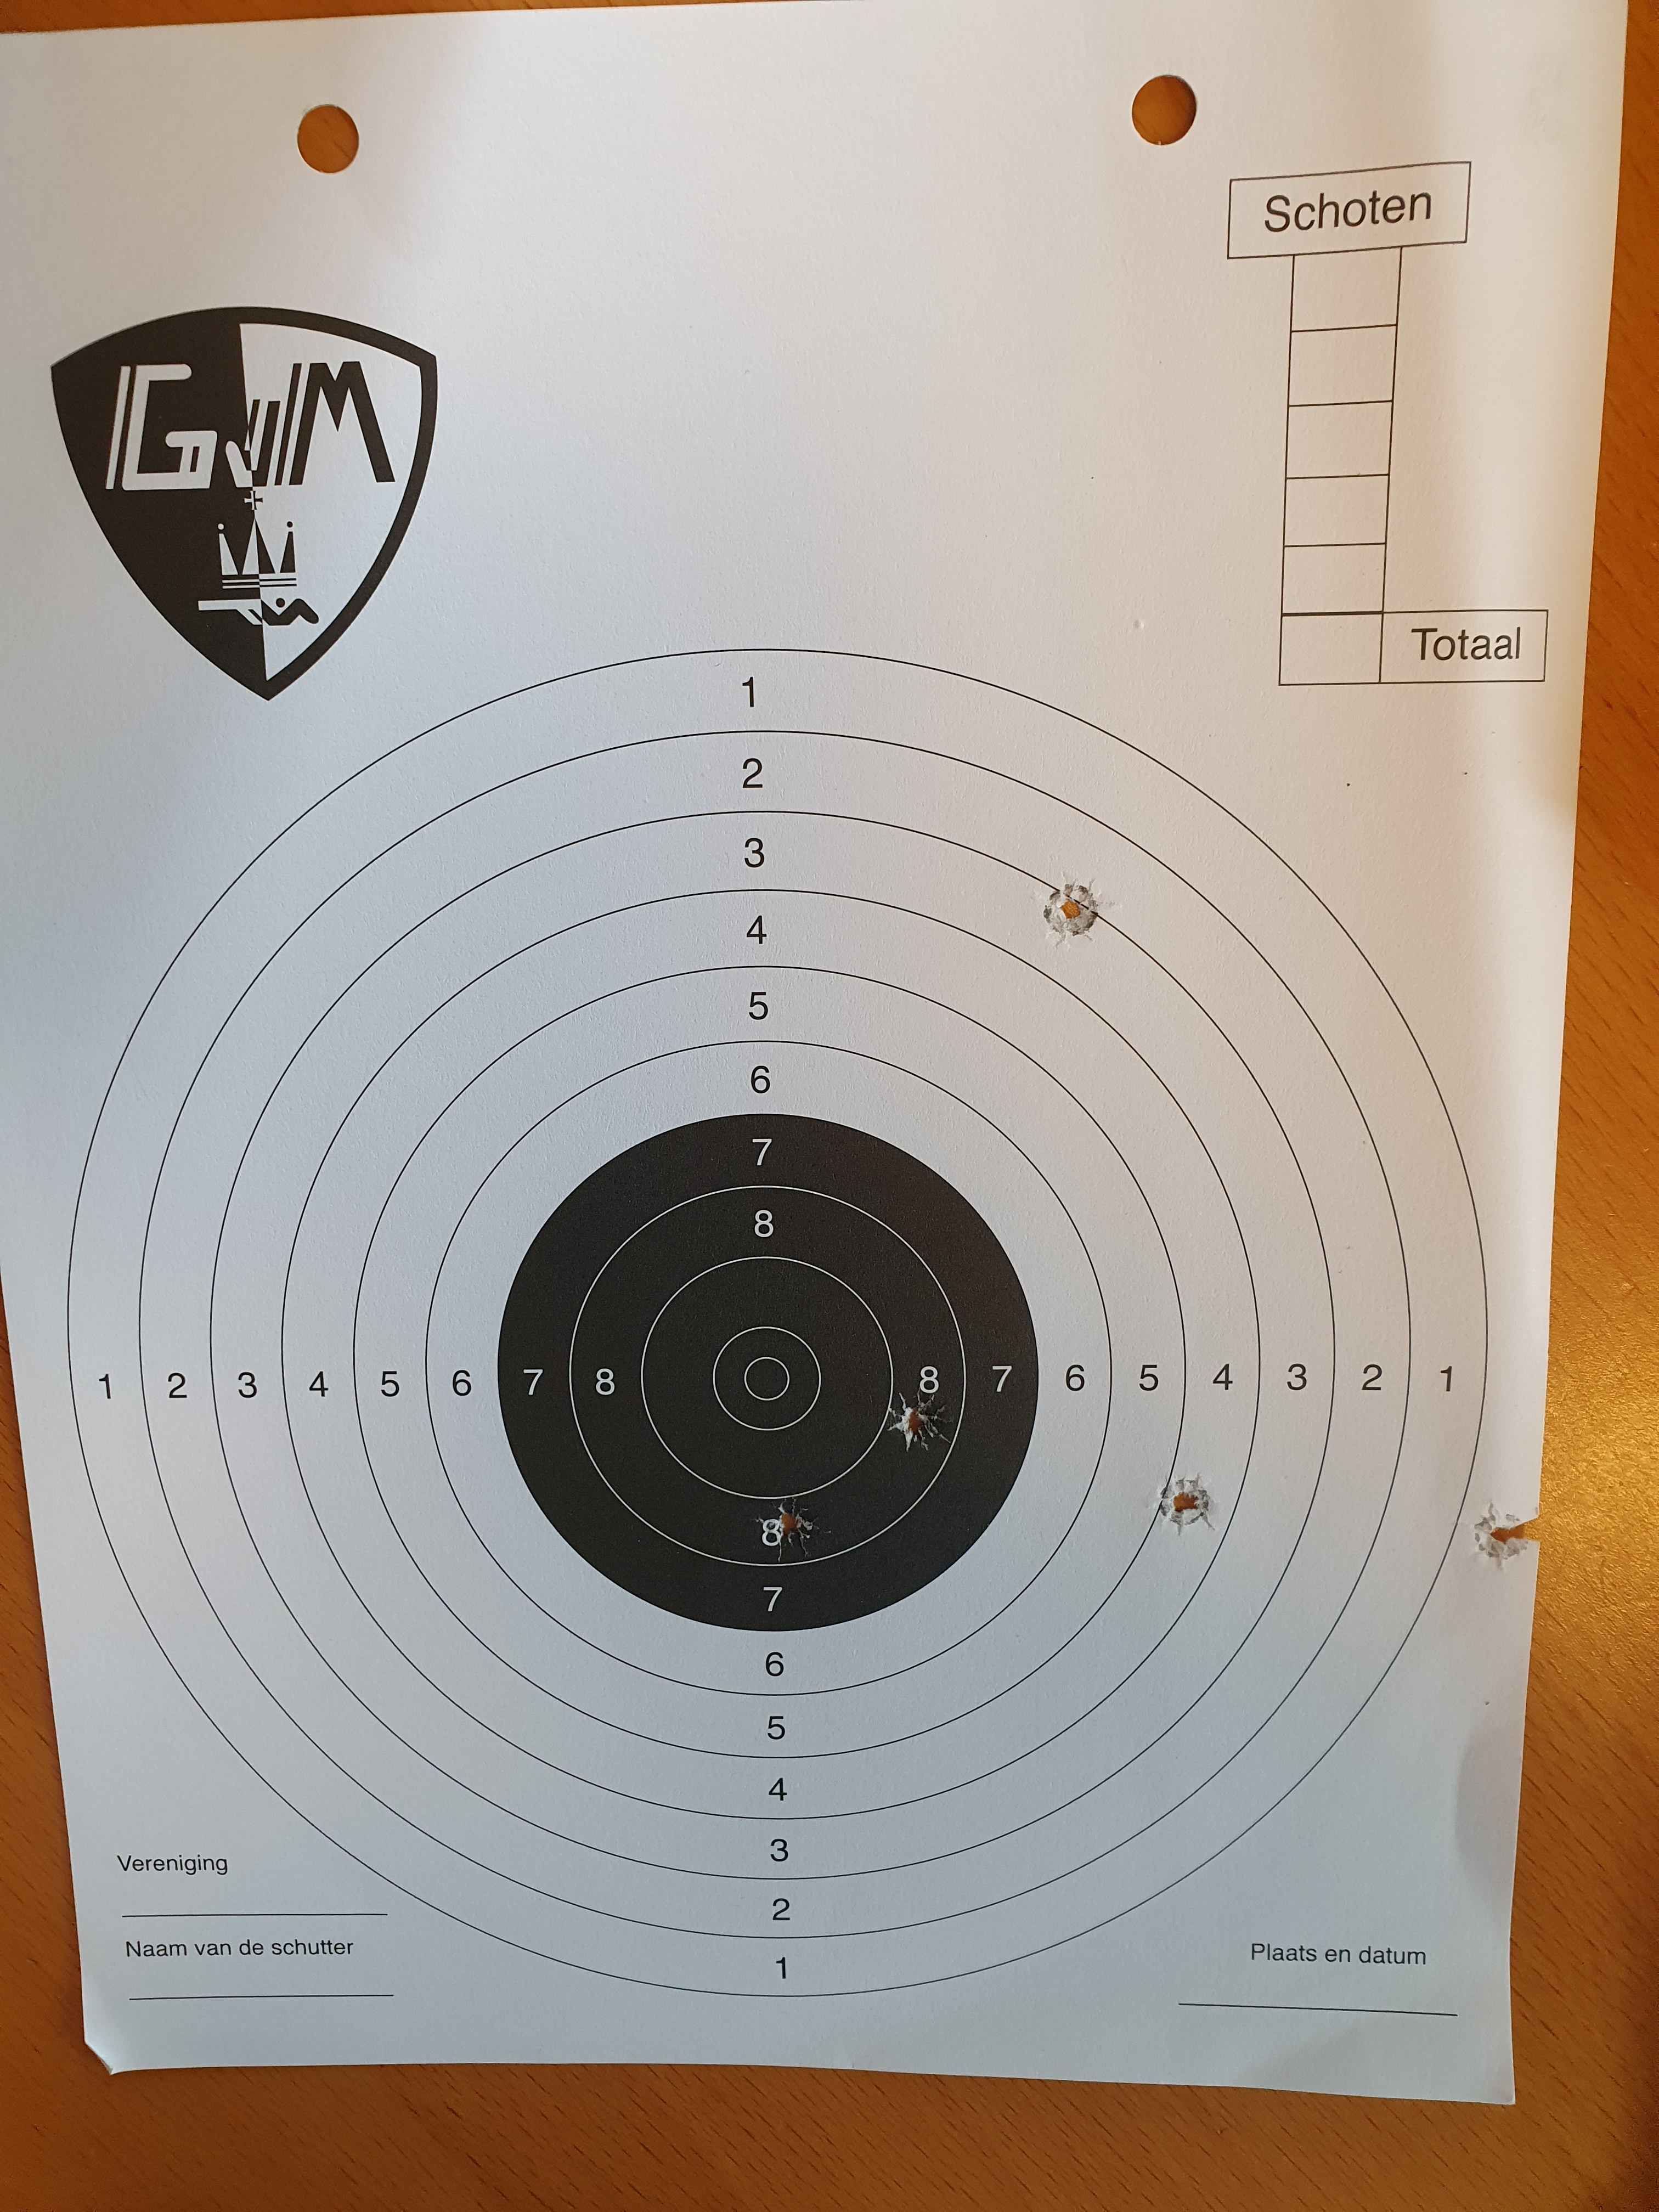center: (498, 1113, 1039, 1632)
out: (64, 648, 1486, 1996)
shot: (1039, 873, 1121, 949), (753, 1496, 833, 1562), (1471, 1500, 1541, 1571), (882, 1388, 955, 1453), (1152, 1472, 1220, 1538)
target: (711, 1325, 823, 1430)
